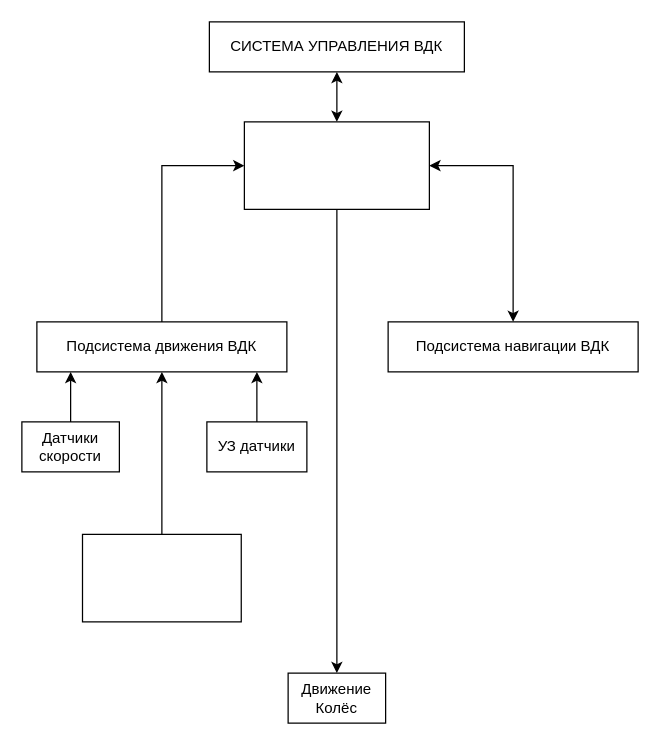
This 660x745 diagram has some shape labels left out. Each missing label, with the centre of its shape:
"Датчики положения (Гироскоп + Акселерометр)" belongs at (161,577).
"МИКРОКОНТРОЛЛЕР ARDUINO" belongs at (336,165).
